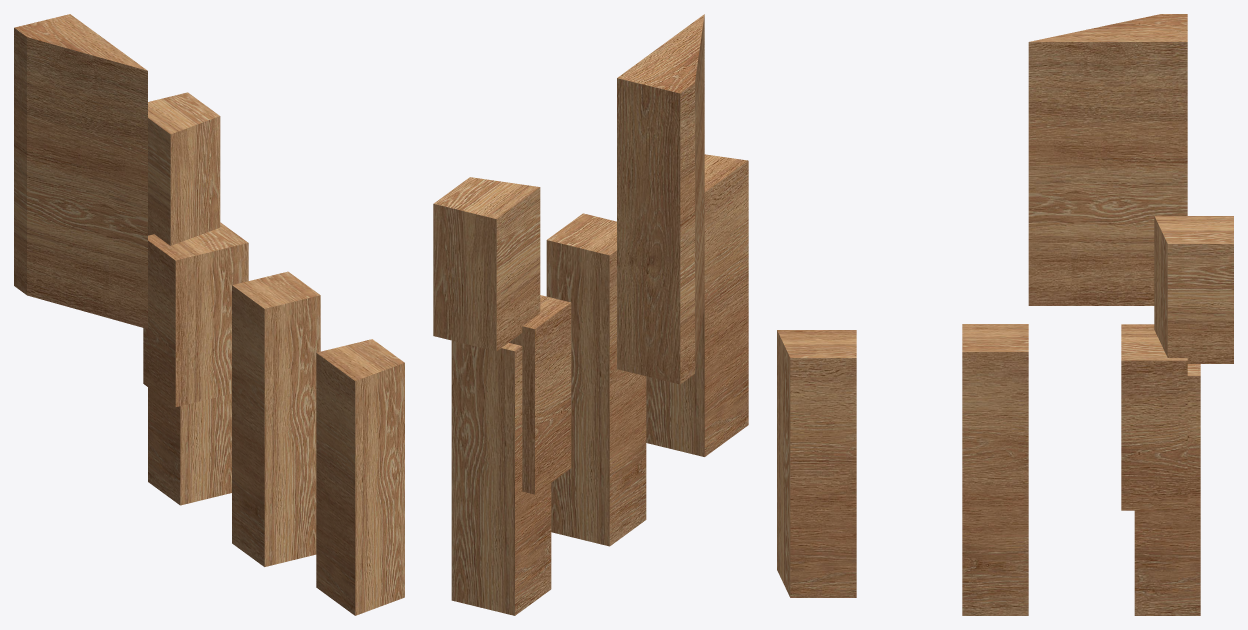
Rendered from 38527_deepcad-end2end.glb.
3 renders of one model, left to right at view 1: azimuth 30°, elevation 25°; view 2: azimuth 150°, elevation 25°; view 3: azimuth 270°, elevation 25°, orthographic. The views are drawn at different scales.
Visible parts, largest first — view 1: test_cmd_38527_pred; view 2: test_cmd_38527_pred; view 3: test_cmd_38527_pred.
Boxes of the visible parts, x1=… form: test_cmd_38527_pred: x1=14, y1=14, x2=404, y2=615; test_cmd_38527_pred: x1=433, y1=14, x2=748, y2=615; test_cmd_38527_pred: x1=777, y1=14, x2=1233, y2=615.
Bounding box in the file's own units: 0.4286 × 1 × 0.8214.
1 material, 1 textured.
